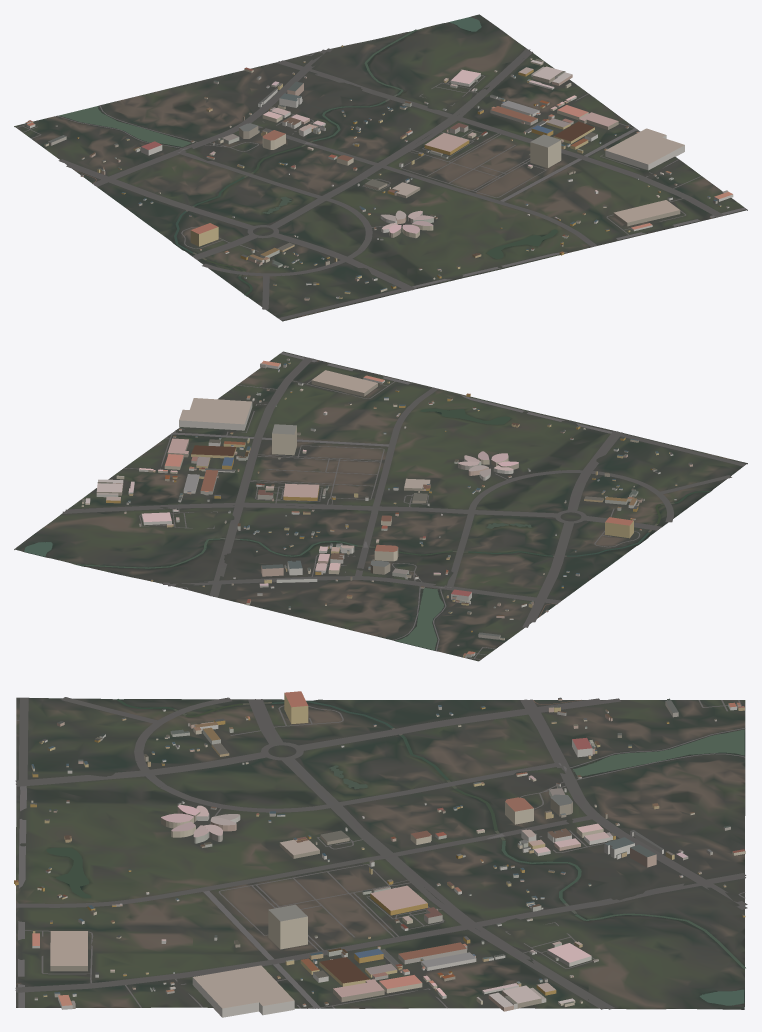
The picture shows the model from 3 angles, top to bottom: view 1: azimuth 30°, elevation 25°; view 2: azimuth 150°, elevation 25°; view 3: azimuth 270°, elevation 25°; orthographic projection. The views are drawn at different scales.
Visible parts, largest first — view 1: ground, buildings, roads, water; view 2: ground, buildings, roads, water; view 3: ground, buildings, roads, water.
Part boxes in pixels (x1,y1,x2,y2): ground: (14,14,747,321); buildings: (25,45,733,300); roads: (16,48,746,320); water: (59,17,557,295); ground: (14,351,747,661); buildings: (81,358,692,657); roads: (62,352,746,659); water: (24,408,710,650); ground: (16,697,745,1009); buildings: (14,691,745,1017); roads: (15,697,747,1009); water: (46,699,745,1005).
Size of the model in its own units: 1448 by 66.13 by 1411.
